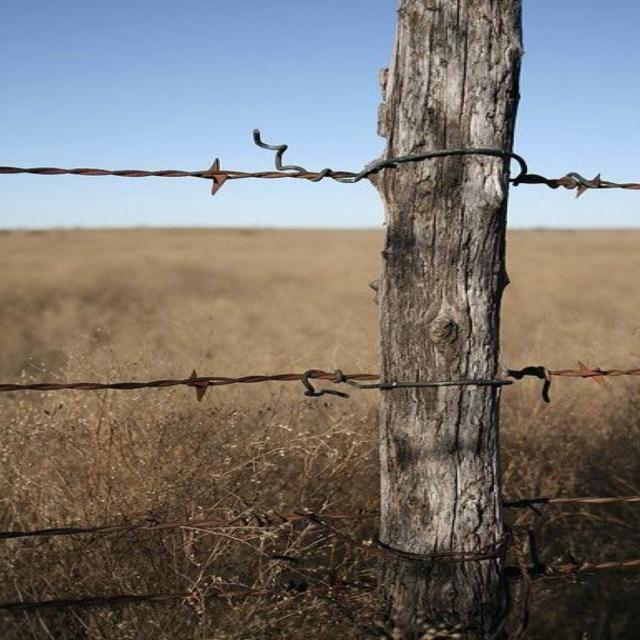fence: (0, 137, 638, 625)
